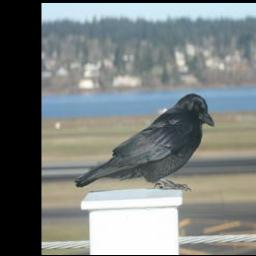Crow: (73, 92, 215, 190)
